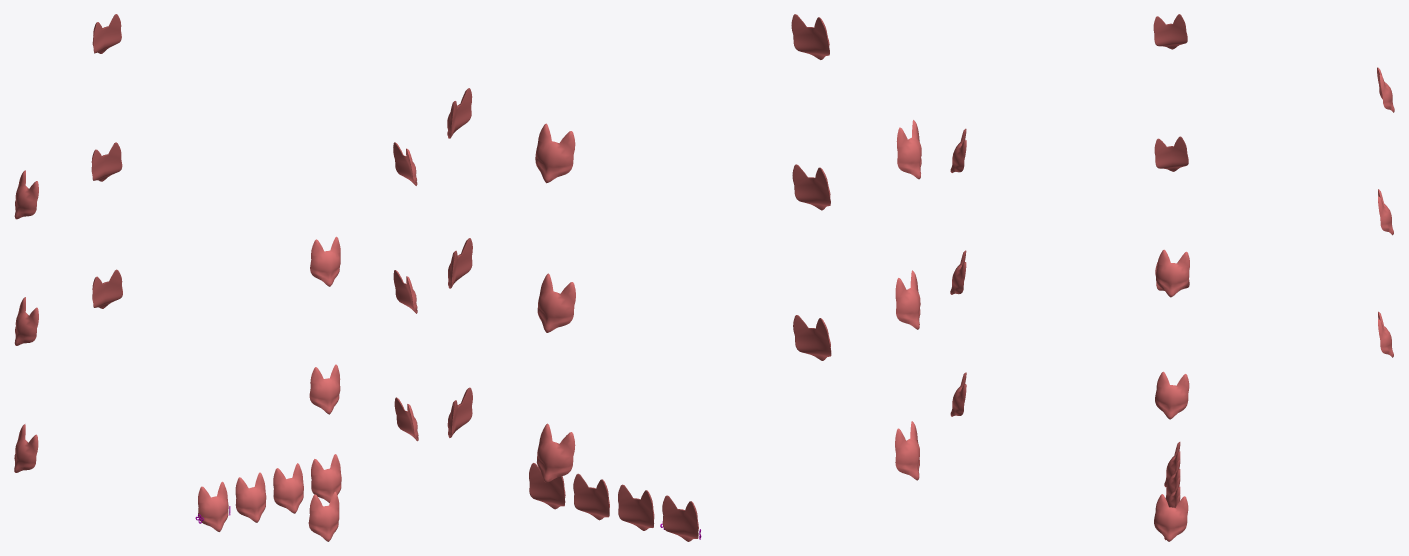
Rendered from Effect.fbx.
The picture shows the model from 3 angles, left to right: view 1: azimuth 30°, elevation 25°; view 2: azimuth 150°, elevation 25°; view 3: azimuth 270°, elevation 25°; orthographic projection. The views are drawn at different scales.
Parts seen in each view (by area): view 1: Effect; view 2: Effect; view 3: Effect.
Boxes of the visible parts, box(x1,y1,x2,y2) form: Effect: box(14, 14, 418, 541); Effect: box(447, 14, 921, 541); Effect: box(950, 14, 1394, 541).
Size of the model in its own units: 1.49 by 1.54 by 1.49.
